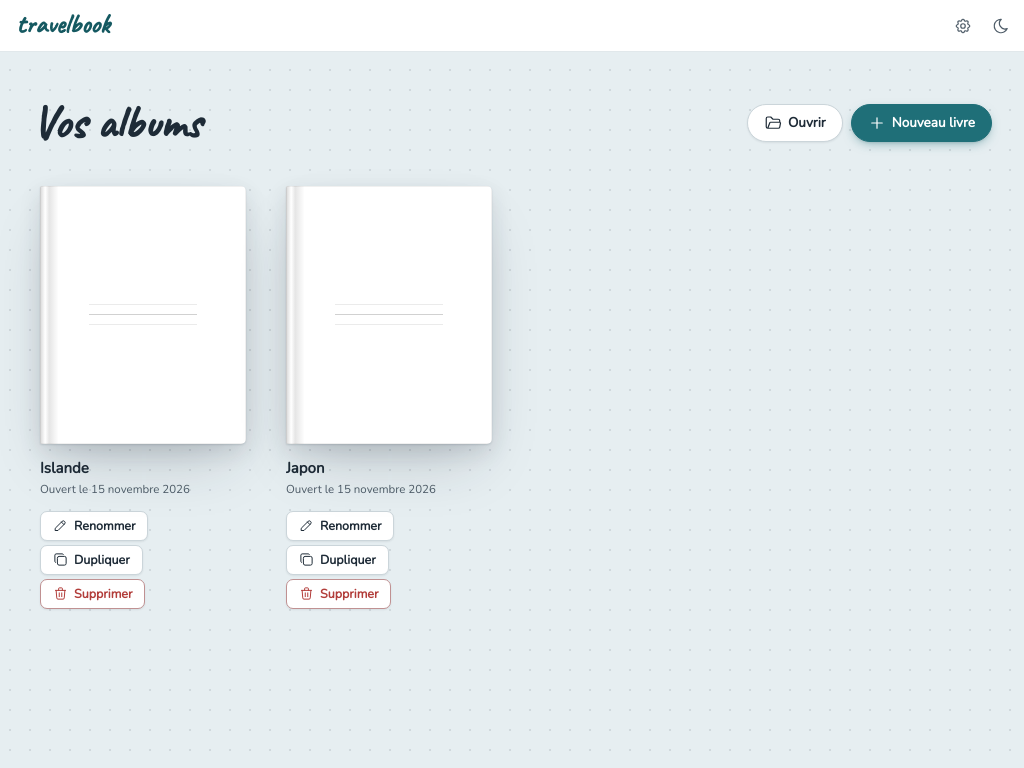
Home: rename an album › renames the album, trimmed, and shows the new title in its place
Check: the text "Islande" is shown, box top-left (40, 458), bottom-right (89, 478)
Click the 1st button "Renommer". click: (94, 526)
box: top-left (40, 511), bottom-right (148, 541)
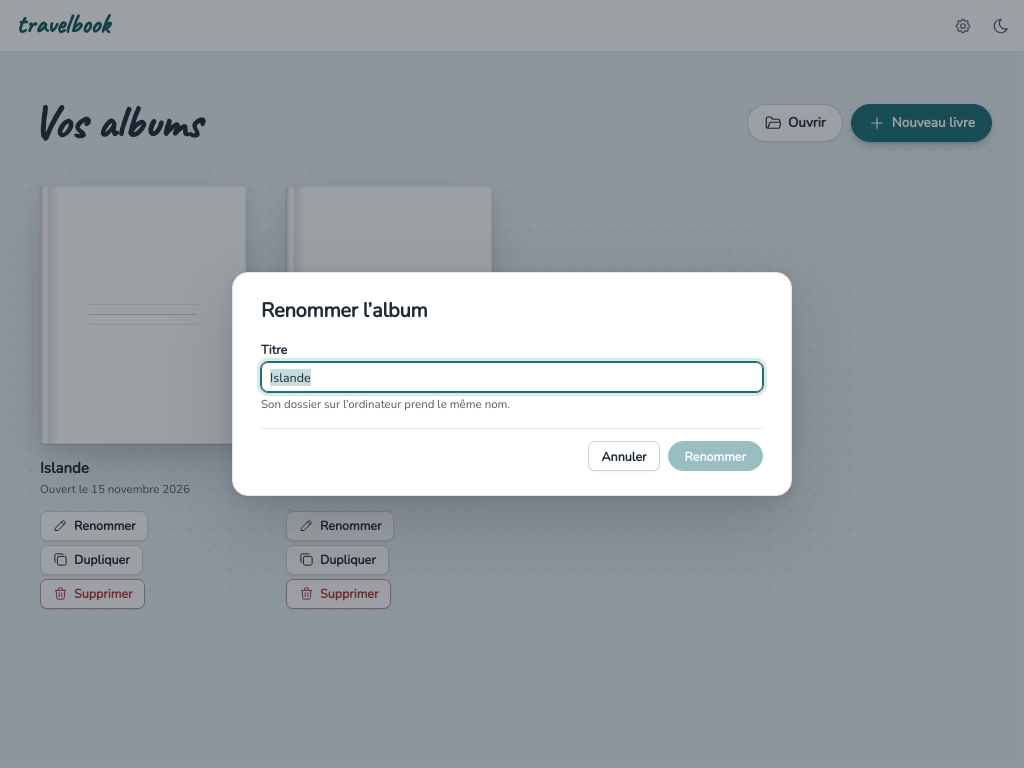
Replace the text in the field labelled "Titre" with "  Pérou - Alex ". click: (512, 377)
box: top-left (261, 362), bottom-right (763, 392)
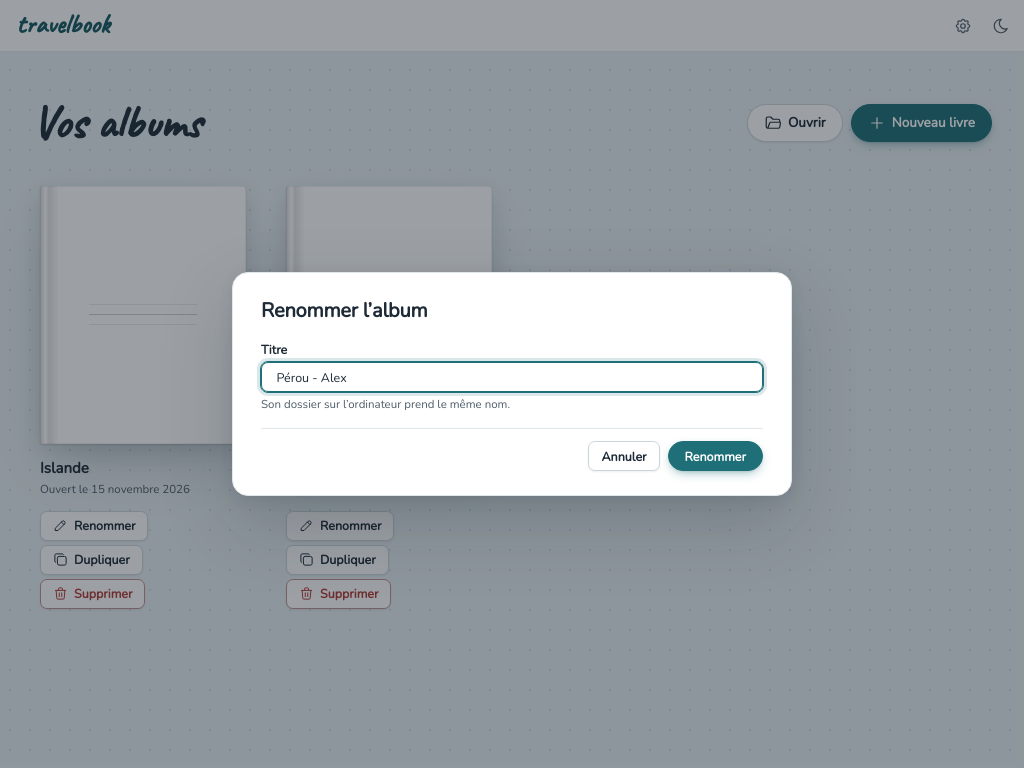
Click the button "Renommer". click: (715, 456)
box: top-left (668, 441), bottom-right (763, 471)
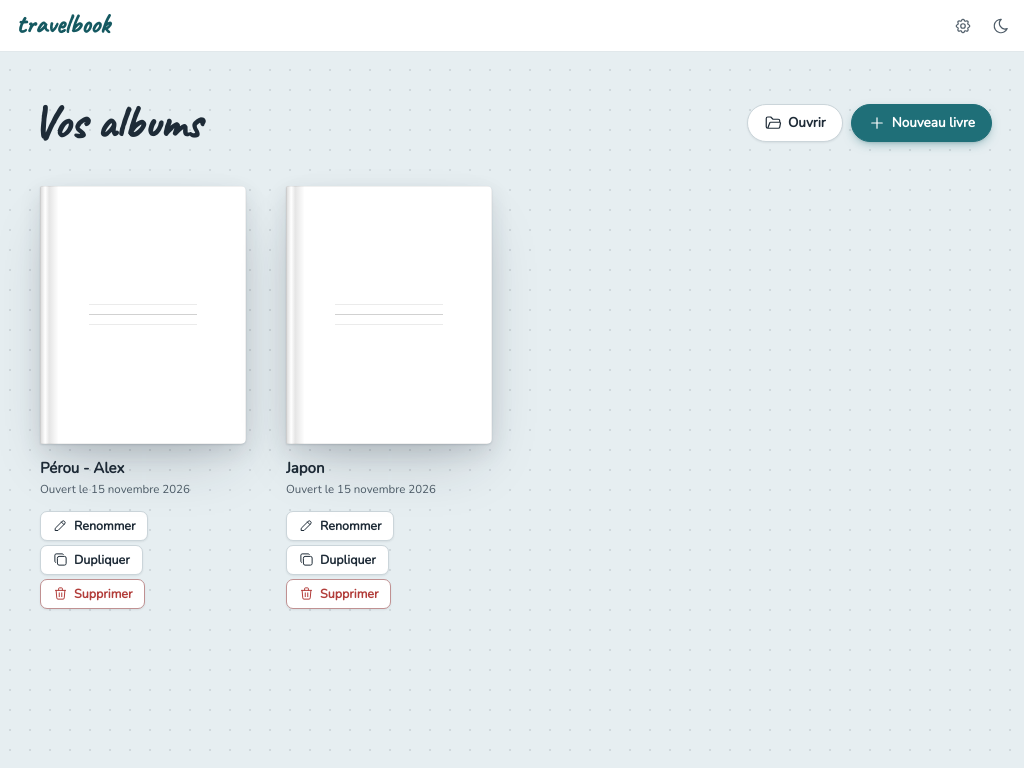
Check: the text "Pérou - Alex" is shown, box top-left (40, 458), bottom-right (124, 478)
Check: the button "Islande" is gone
Check: the dialog is gone
